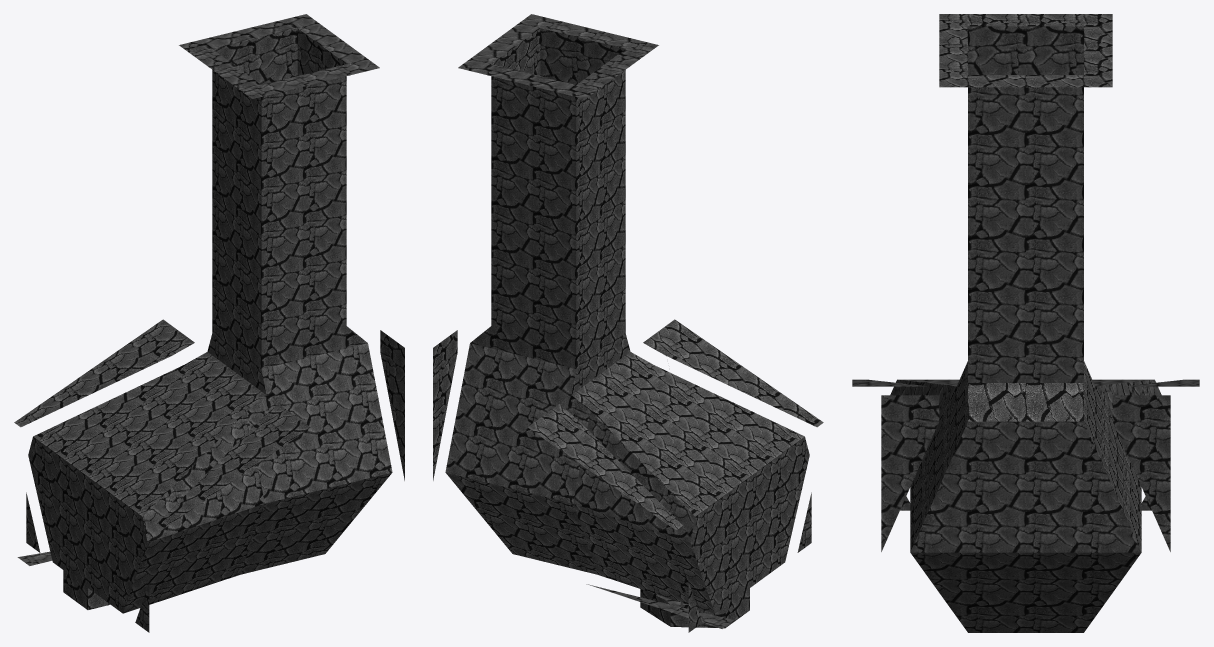
Rendered from volcanoA.gltf.
The picture shows the model from 3 angles, left to right: view 1: azimuth 30°, elevation 25°; view 2: azimuth 150°, elevation 25°; view 3: azimuth 270°, elevation 25°; orthographic projection. The views are drawn at different scales.
Parts seen in each view (by area): view 1: volcanoA; view 2: volcanoA; view 3: volcanoA.
Boxes of the visible parts, <box> form: volcanoA: <box>14,14,404,632</box>; volcanoA: <box>433,14,823,632</box>; volcanoA: <box>852,14,1199,632</box>.
Size of the model in its own units: 26 by 45.5 by 24.
Materials: 2 (2 with a texture image).
